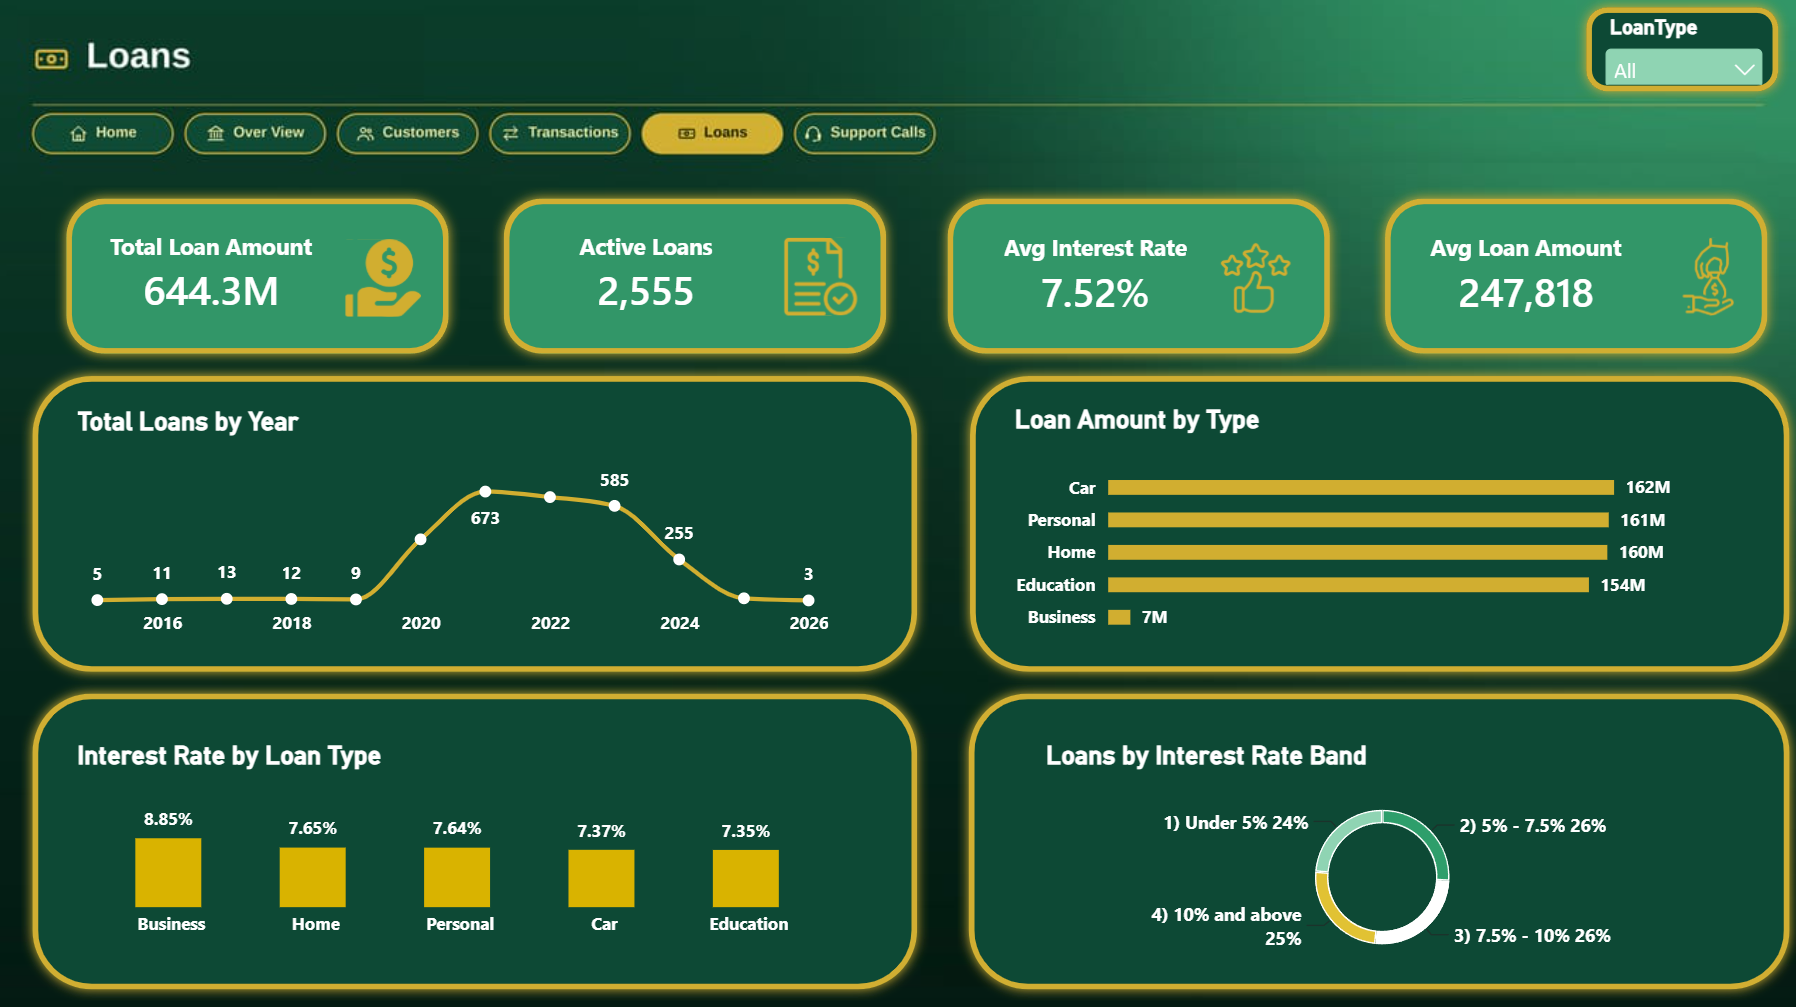

This screenshot's page, from the dashboard's own definition file:
{"tool":"powerbi","page":{"name":"Loans","canvas":[1280,720],"ordinal":4},"visuals":[{"type":"actionButton","box":[567.9,81.5,99.2,32.8],"z":0},{"type":"actionButton","box":[350.8,82.4,99.2,32.8],"z":1000},{"type":"actionButton","box":[243.6,81.5,99.2,32.8],"z":2000},{"type":"actionButton","box":[136.4,81.5,99.2,32.8],"z":3000},{"type":"actionButton","box":[28.4,81.5,99.2,32.8],"z":4000},{"type":"shape","box":[42.5,135.5,287,126],"z":4001},{"type":"shape","box":[977.2,135.5,287,126],"z":4002},{"type":"shape","box":[667.1,135.5,287,126],"z":4003},{"type":"shape","box":[352.6,135.5,287,126],"z":4004},{"type":"cardVisual","fields":{"Data":["_Measures.Total Loan Amount"]},"box":[71.8,149.7,221.5,96.6],"z":4005},{"type":"cardVisual","fields":{"Data":["_Measures.Active Loans"]},"box":[385.1,149.2,221.5,96.6],"z":4006},{"type":"cardVisual","fields":{"Data":["_Measures.Weighted Avg Interest Rate"]},"box":[683.5,149.2,254.5,97],"z":4007},{"type":"cardVisual","fields":{"Data":["_Measures.Avg Loan Amount"]},"box":[1009.8,149.2,221.5,96.6],"z":4008},{"type":"shape","box":[18.6,261.1,642.9,225.6],"z":4009},{"type":"shape","box":[683.5,494.2,597.7,225.6],"z":4010},{"type":"shape","box":[683.5,261.1,596.7,225.6],"z":4011},{"type":"shape","box":[18.6,486.7,642.9,225.6],"z":4012},{"type":"clusteredBarChart","title":"\tLoan Amount by Type","fields":{"Category":["Loans.LoanType"],"Y":["_Measures.Total Loan Amount"]},"box":[706.8,275.1,539.9,196.7],"z":4013},{"type":"lineChart","fields":{"Category":["Loans.LoanStartDate.Variation.Date Hierarchy.Year"],"Y":["_Measures.Total Loans"]},"box":[42.9,276,564.1,196.7],"z":4014},{"type":"clusteredColumnChart","title":"Interest Rate by LoanType","fields":{"Category":["Loans.LoanType"],"Y":["_Measures.Weighted Avg Interest Rate"]},"box":[42.9,512.8,574.4,173.4],"z":4015},{"type":"shape","box":[1119.7,0,152,75.5],"z":4016},{"type":"slicer","fields":{"Values":["Loans.LoanType"]},"box":[1136.6,13.1,121.2,49.4],"z":4017},{"type":"donutChart","fields":{"Category":["Loans.Rate Band"],"Y":["_Measures.Total Loans"]},"box":[729.1,512.8,508.2,187.4],"z":4018}]}

Visuals, with their boxes in screenshot pixels (x1, y1, x2, y2), scaled from the page's 1280x720 canvas onto the 1796x1007 screenshot:
actionButton: [x1=797, y1=114, x2=936, y2=160]
actionButton: [x1=492, y1=115, x2=631, y2=161]
actionButton: [x1=342, y1=114, x2=481, y2=160]
actionButton: [x1=191, y1=114, x2=331, y2=160]
actionButton: [x1=40, y1=114, x2=179, y2=160]
shape: [x1=60, y1=190, x2=462, y2=366]
shape: [x1=1371, y1=190, x2=1774, y2=366]
shape: [x1=936, y1=190, x2=1339, y2=366]
shape: [x1=495, y1=190, x2=897, y2=366]
cardVisual - _Measures.Total Loan Amount: [x1=101, y1=209, x2=412, y2=344]
cardVisual - _Measures.Active Loans: [x1=540, y1=209, x2=851, y2=344]
cardVisual - _Measures.Weighted Avg Interest Rate: [x1=959, y1=209, x2=1316, y2=344]
cardVisual - _Measures.Avg Loan Amount: [x1=1417, y1=209, x2=1728, y2=344]
shape: [x1=26, y1=365, x2=928, y2=681]
shape: [x1=959, y1=691, x2=1795, y2=1006]
shape: [x1=959, y1=365, x2=1795, y2=681]
shape: [x1=26, y1=681, x2=928, y2=996]
"	Loan Amount by Type" clusteredBarChart: [x1=992, y1=385, x2=1749, y2=660]
lineChart - Loans.LoanStartDate.Variation.Date Hierarchy.Year x _Measures.Total Loans: [x1=60, y1=386, x2=852, y2=661]
"Interest Rate by LoanType" clusteredColumnChart: [x1=60, y1=717, x2=866, y2=960]
shape: [x1=1571, y1=0, x2=1784, y2=106]
slicer - Loans.LoanType: [x1=1595, y1=18, x2=1765, y2=87]
donutChart - Loans.Rate Band x _Measures.Total Loans: [x1=1023, y1=717, x2=1736, y2=979]
